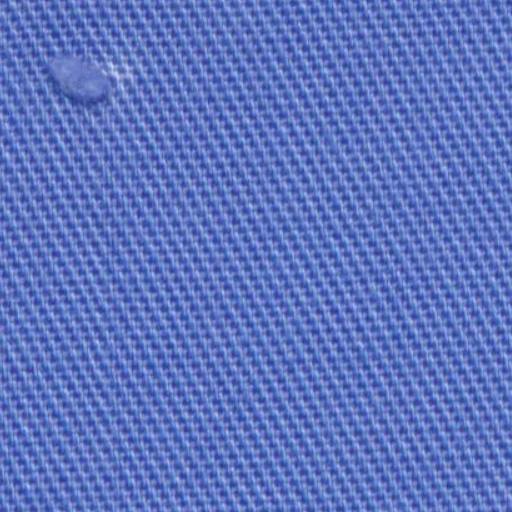MianQiu: (26, 39, 134, 119)
